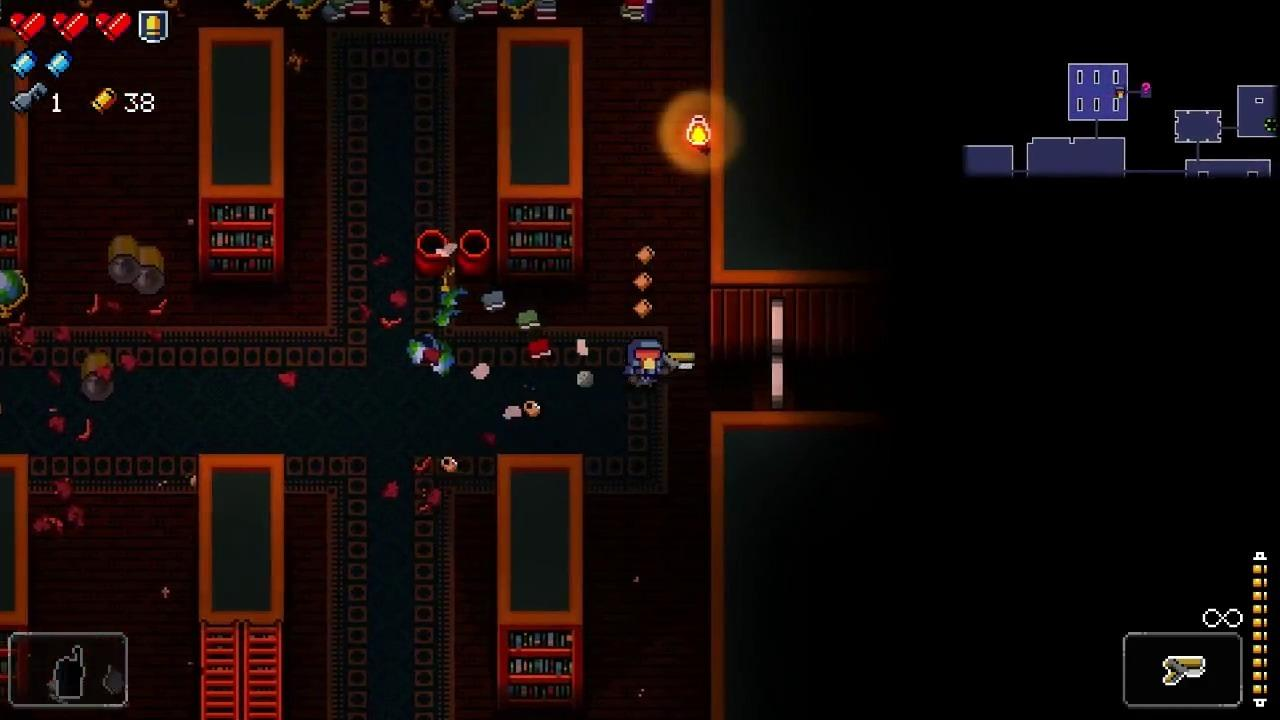dead_bullet_kin: (81, 350, 114, 401), (133, 246, 164, 296), (109, 236, 139, 283)
player: (630, 338, 662, 388)
unlocked_door: (769, 296, 784, 412)
